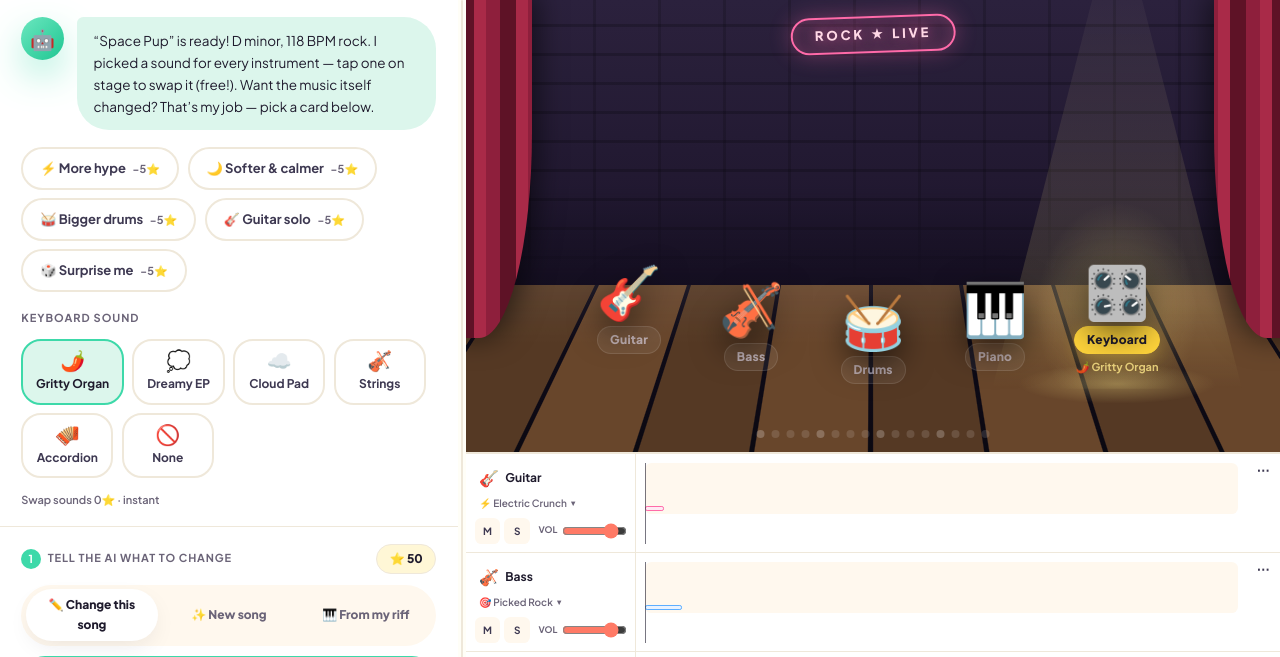
Scenario: MusicStagePane — versions (AC-7) › tapping a band member opens the on-stage instrument pop; picking swaps the glyph (D-MS20)
Click the button with test id "stage-inst-guitar" at (629, 320), box [570,264,688,376]
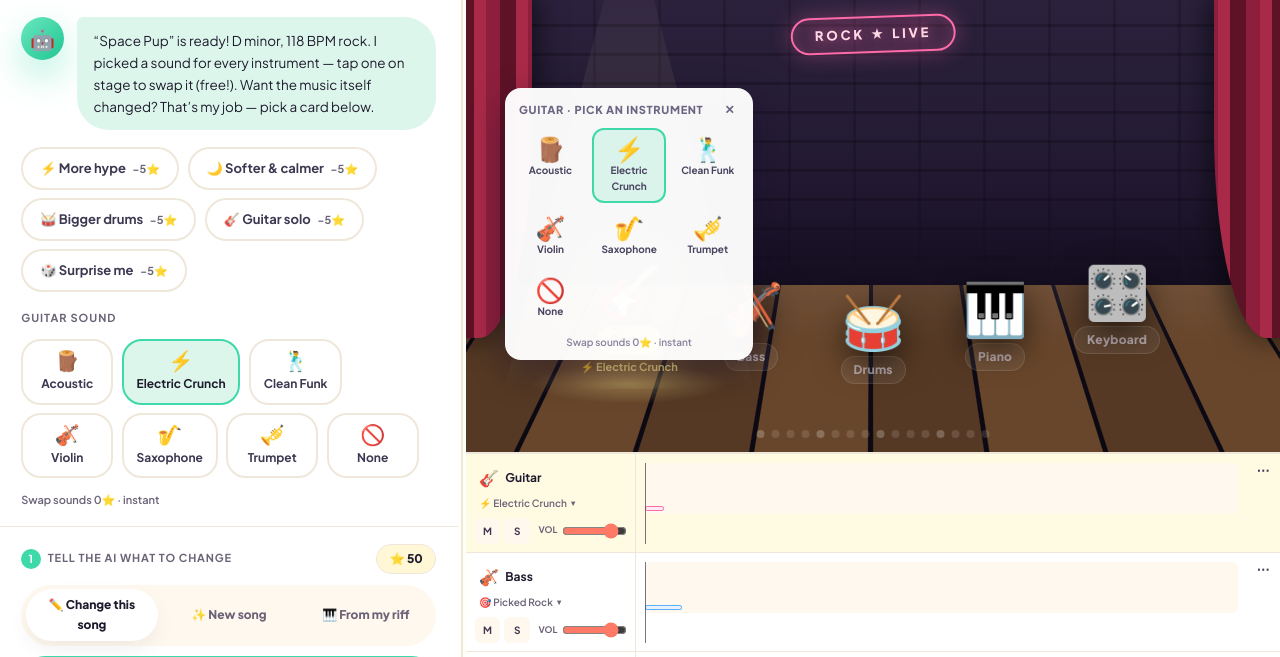
Expected: the element with test id "stage-pop" is shown, [505,88,753,360]
Click the button with test id "stage-pop-guitar-violin" at (550, 236), box [513,207,588,265]
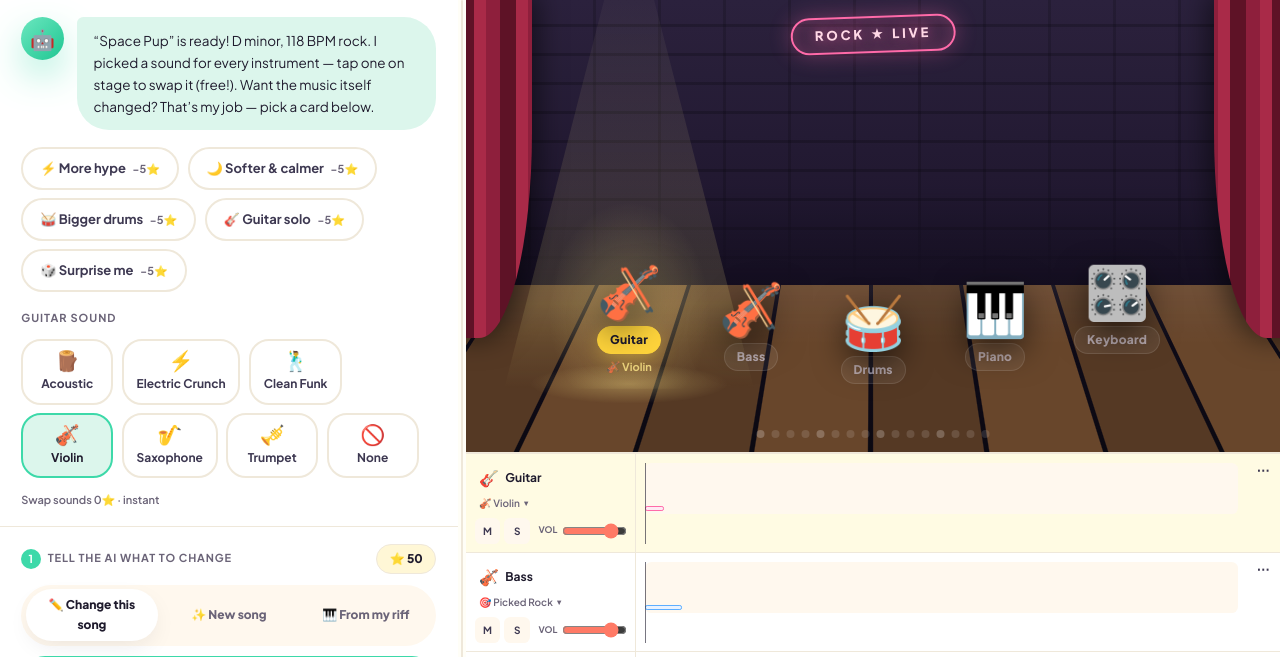
Expected: the element with test id "stage-pop" is gone
Expected: the button with test id "stage-inst-guitar" shows "🎻", [570,264,688,376]
